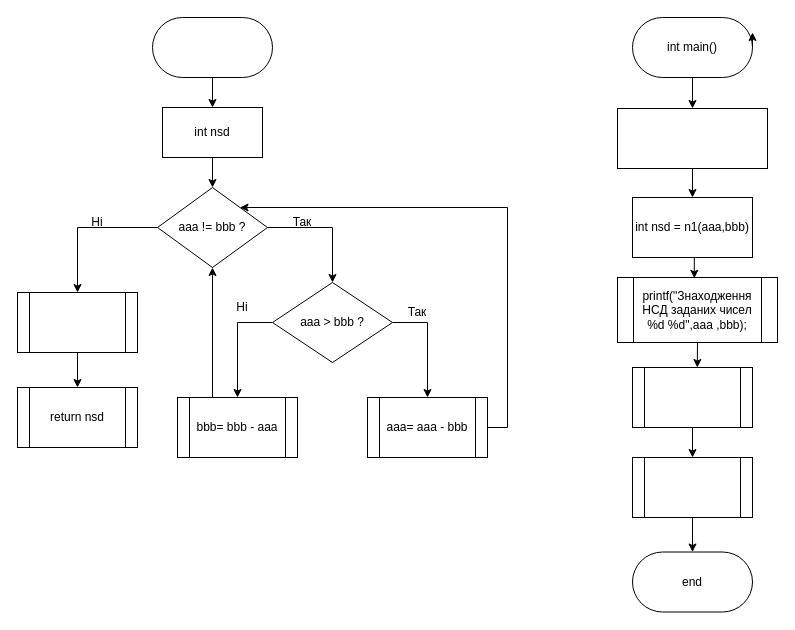
Image size: 795x630. Some labels were removed from this diagram. The centre of each missing label's shape, as x and y in pixels:
int n1(int aaa,int bbb): (212,47)
nsd = aaa: (77,322)
printf("\n НСД=%d\n", nsd);: (692,397)
return 0;: (692,487)
srand(time(NULL)); int aaa=1+rand()%1000; int bbb=1+rand()%1000;: (692,138)
